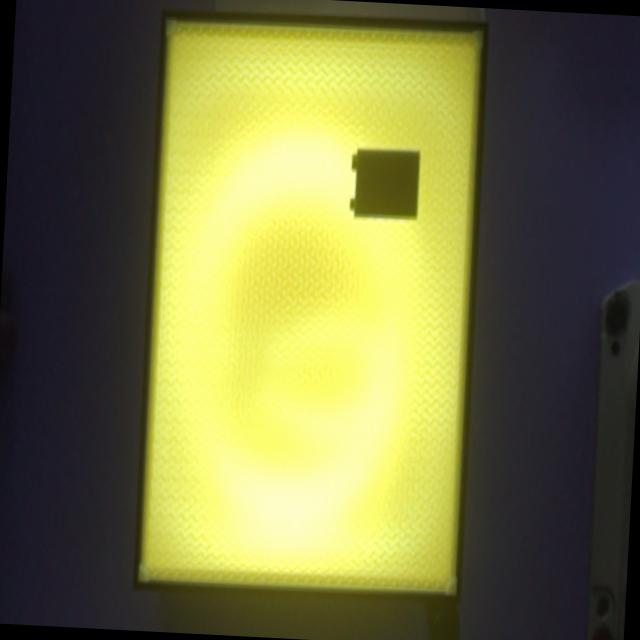bateria: (350, 147, 420, 219)
mesa: (133, 9, 490, 607)
